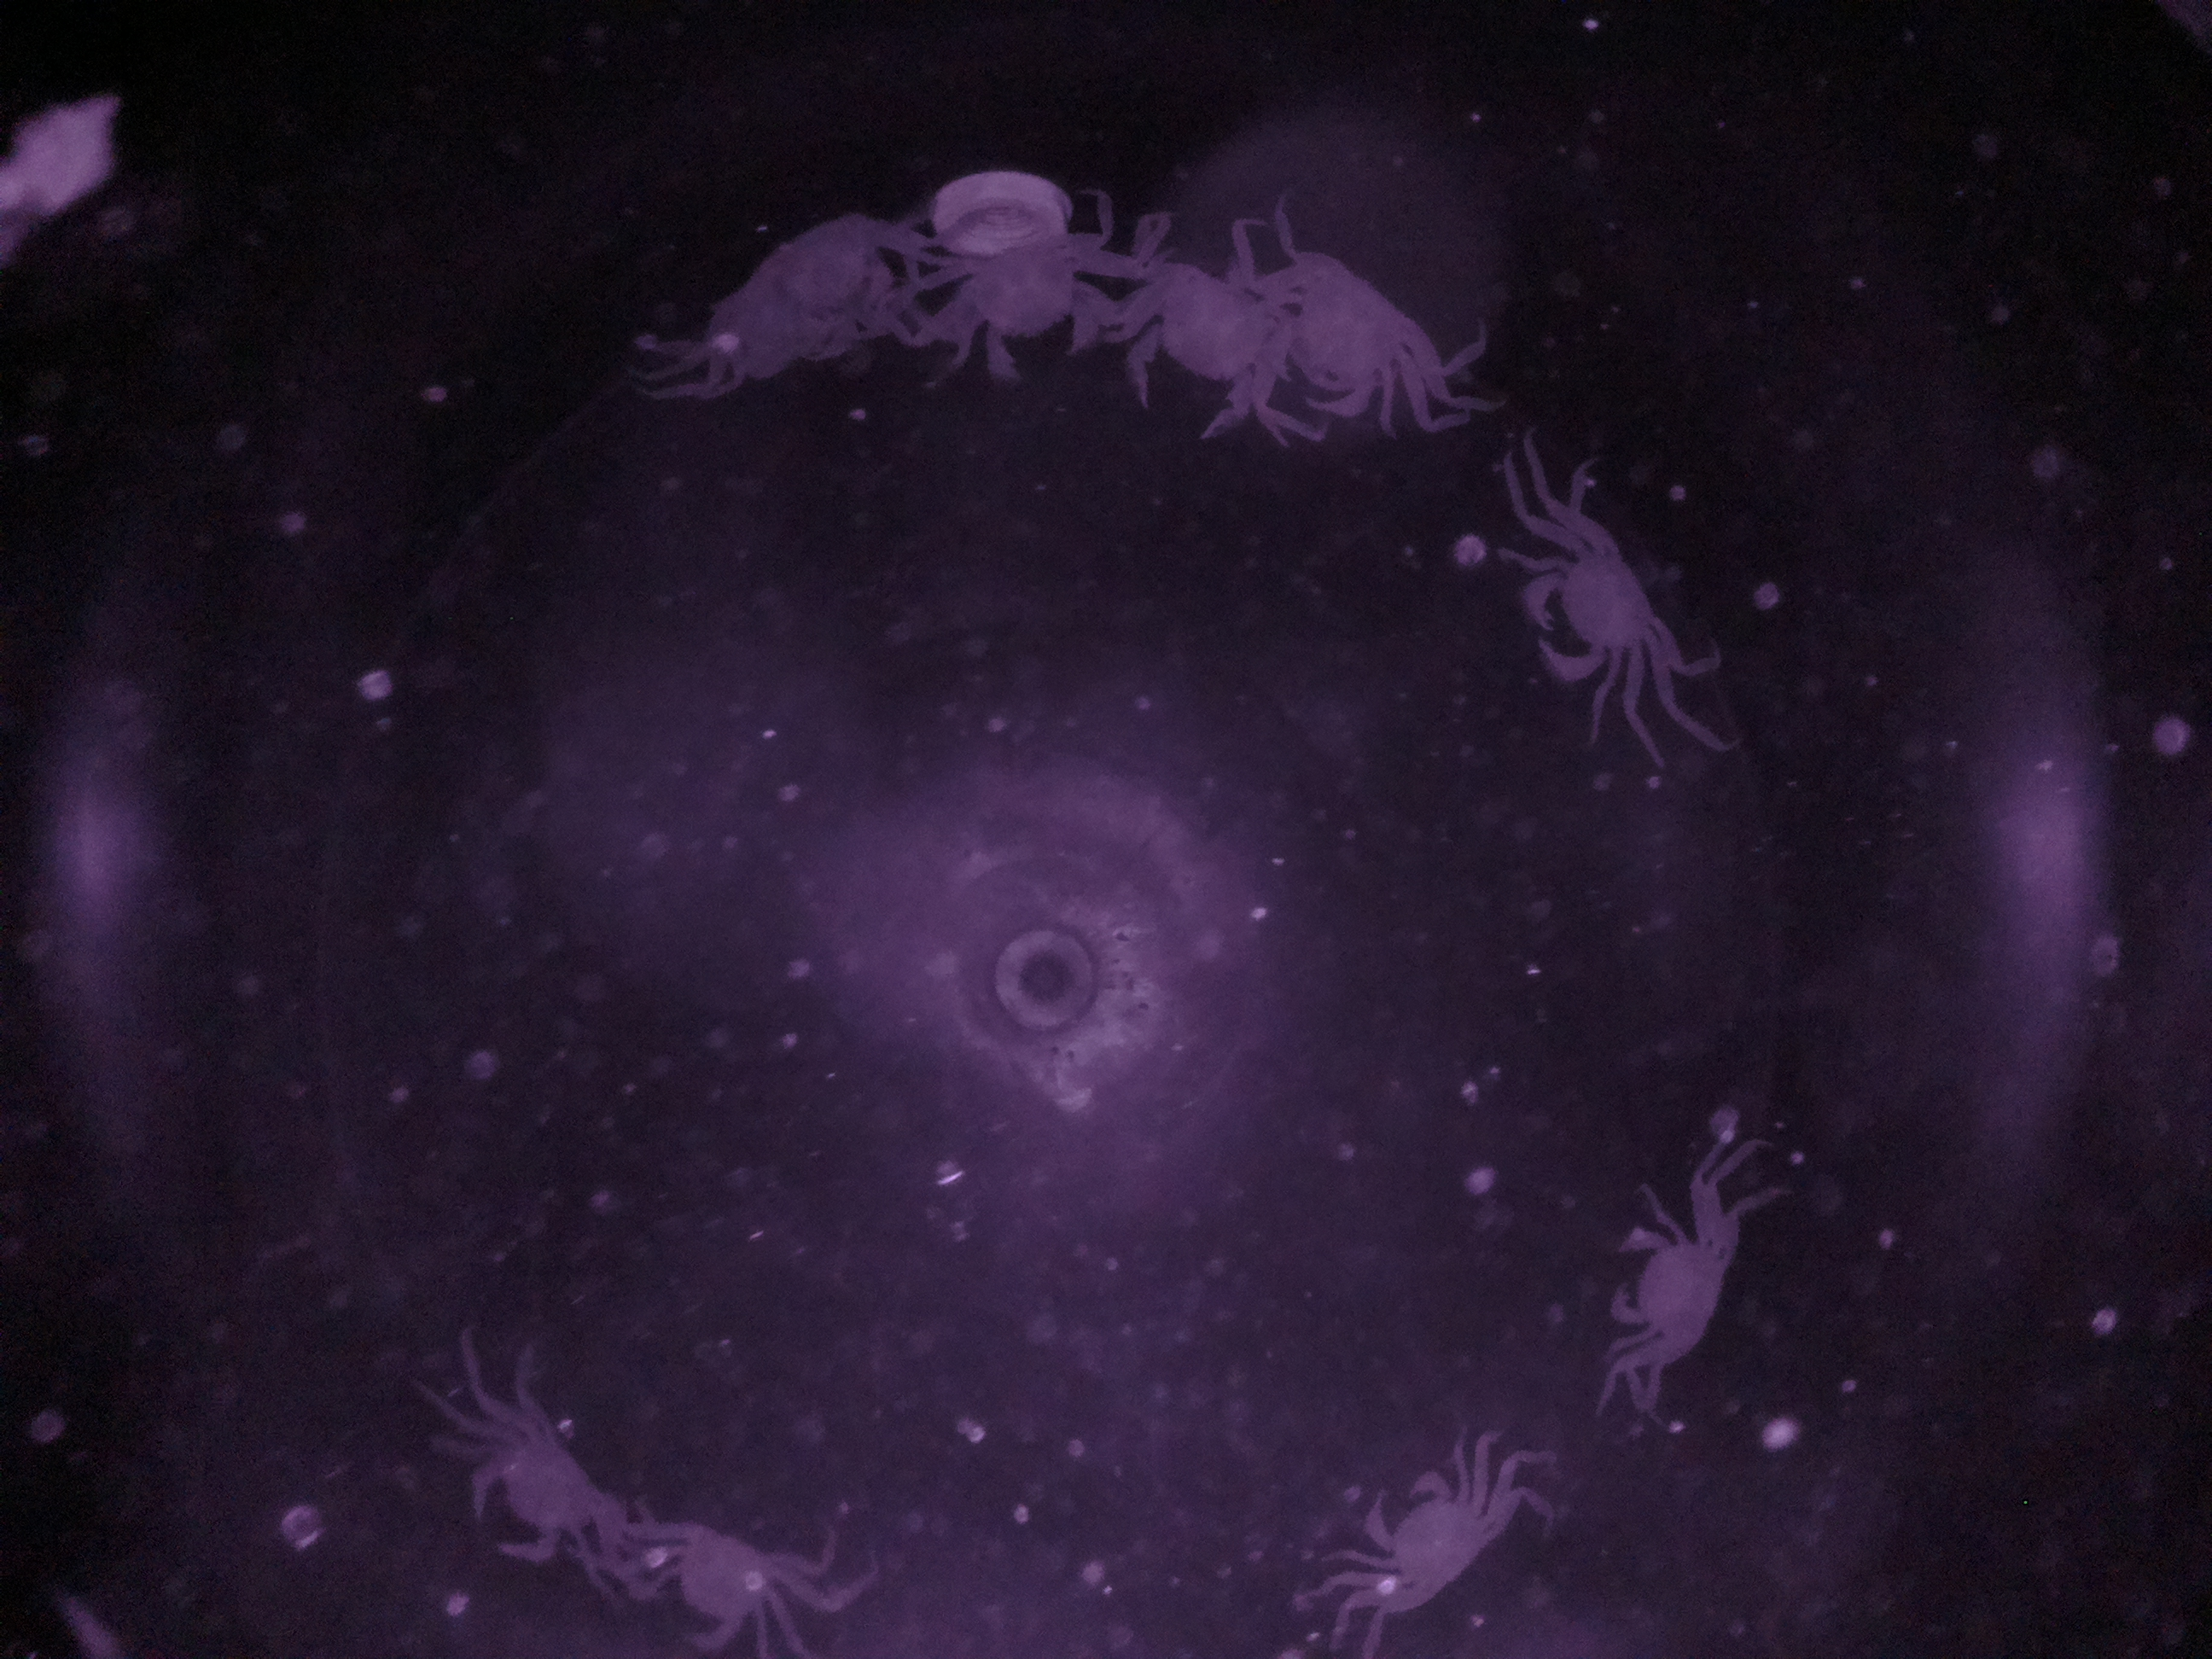Crab: (1501, 502, 1688, 713), (1336, 1445, 1526, 1633), (1576, 1190, 1750, 1387), (456, 1401, 604, 1601)
